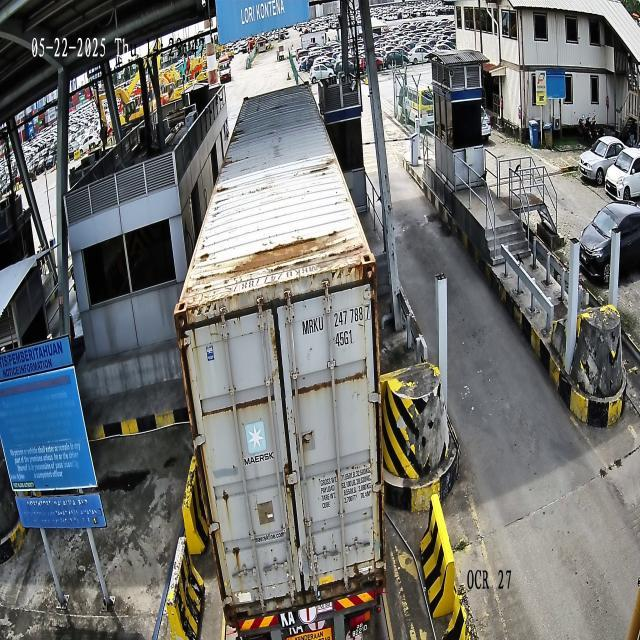ISO: (335, 329, 353, 347)
container_number: (302, 304, 370, 336)
